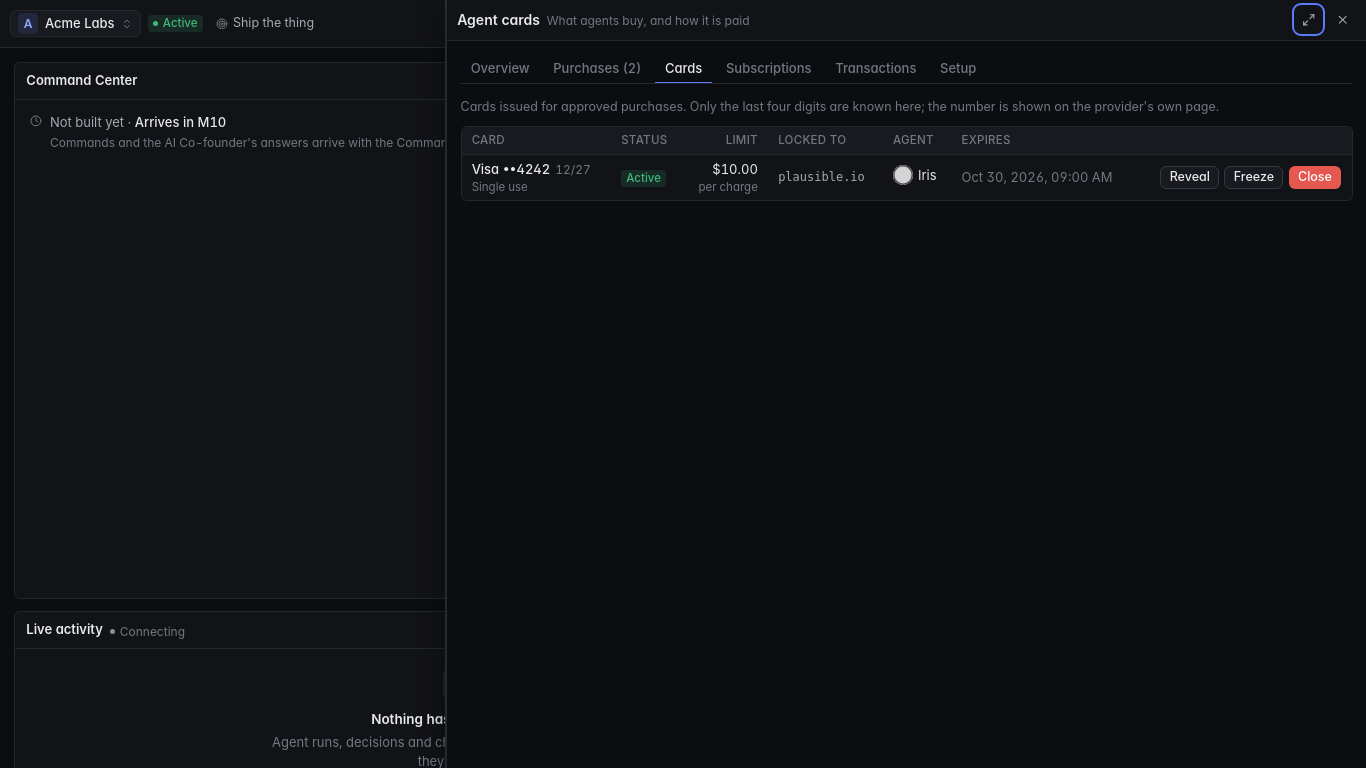
Wallet panel › cards: refuses to open an address that is not https
Step 1. Click the button with aria-label "Reveal Visa ••4242" → (1190, 177), box [1160, 166, 1219, 189]
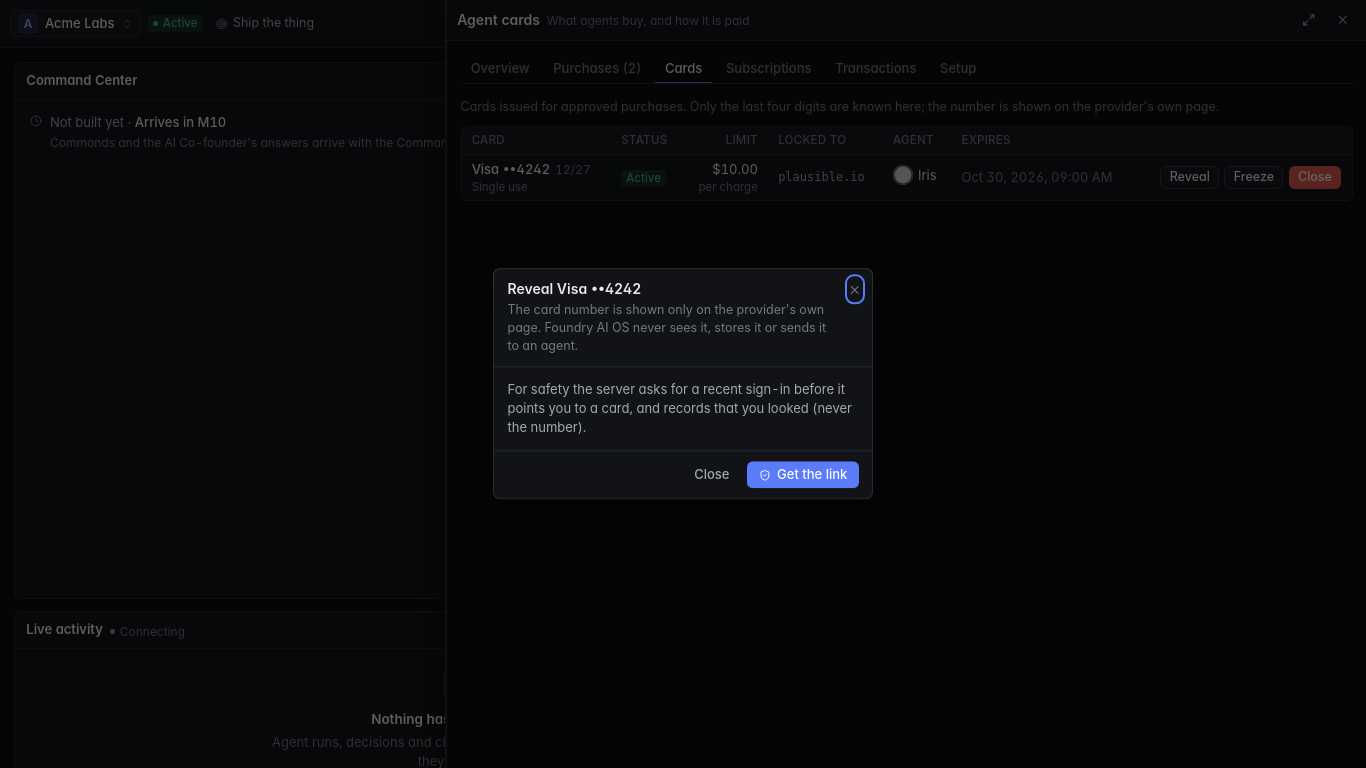
Step 2. Click the button "Get the link" → (803, 475), box [747, 462, 858, 489]
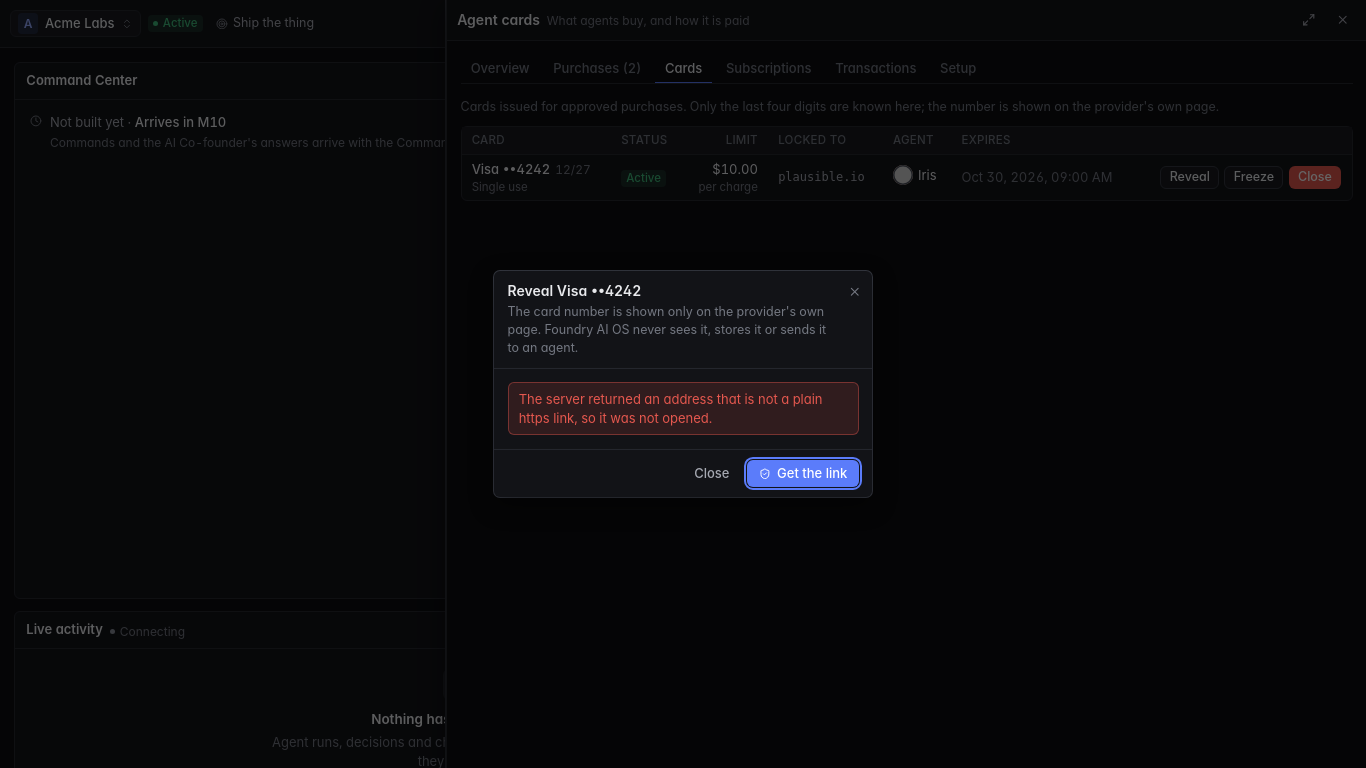
Expected: the text "not a plain https link" is shown, [519, 391, 822, 426]
